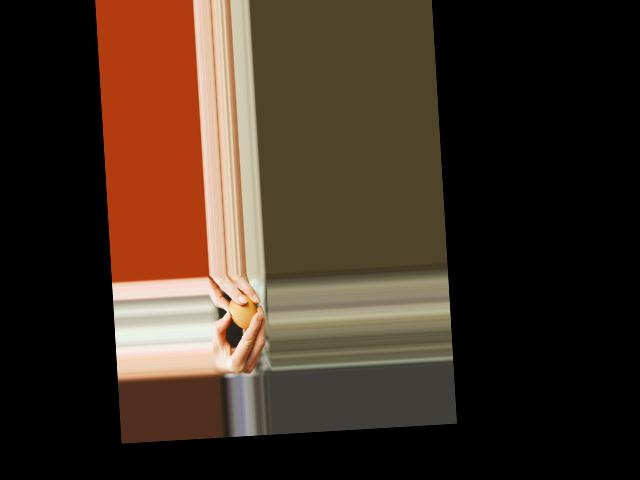egg: (228, 293, 258, 329)
